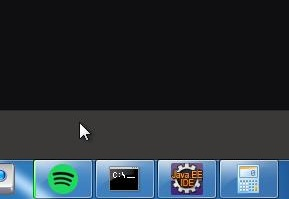cursor: (72, 119, 96, 144)
